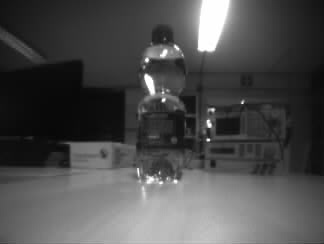Bottle: (134, 25, 187, 183)
